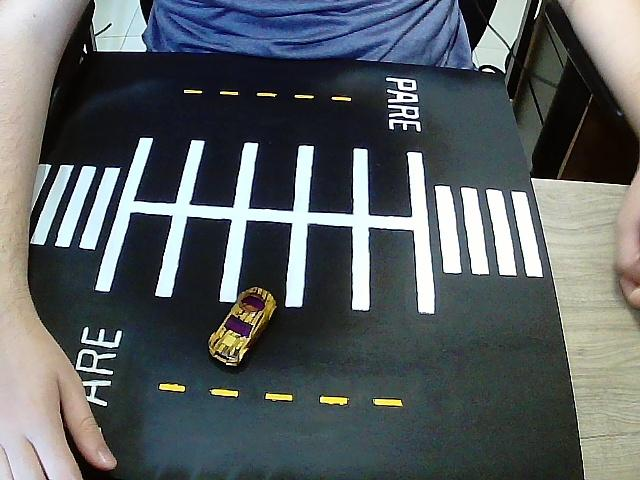Carro: (209, 288, 277, 369)
